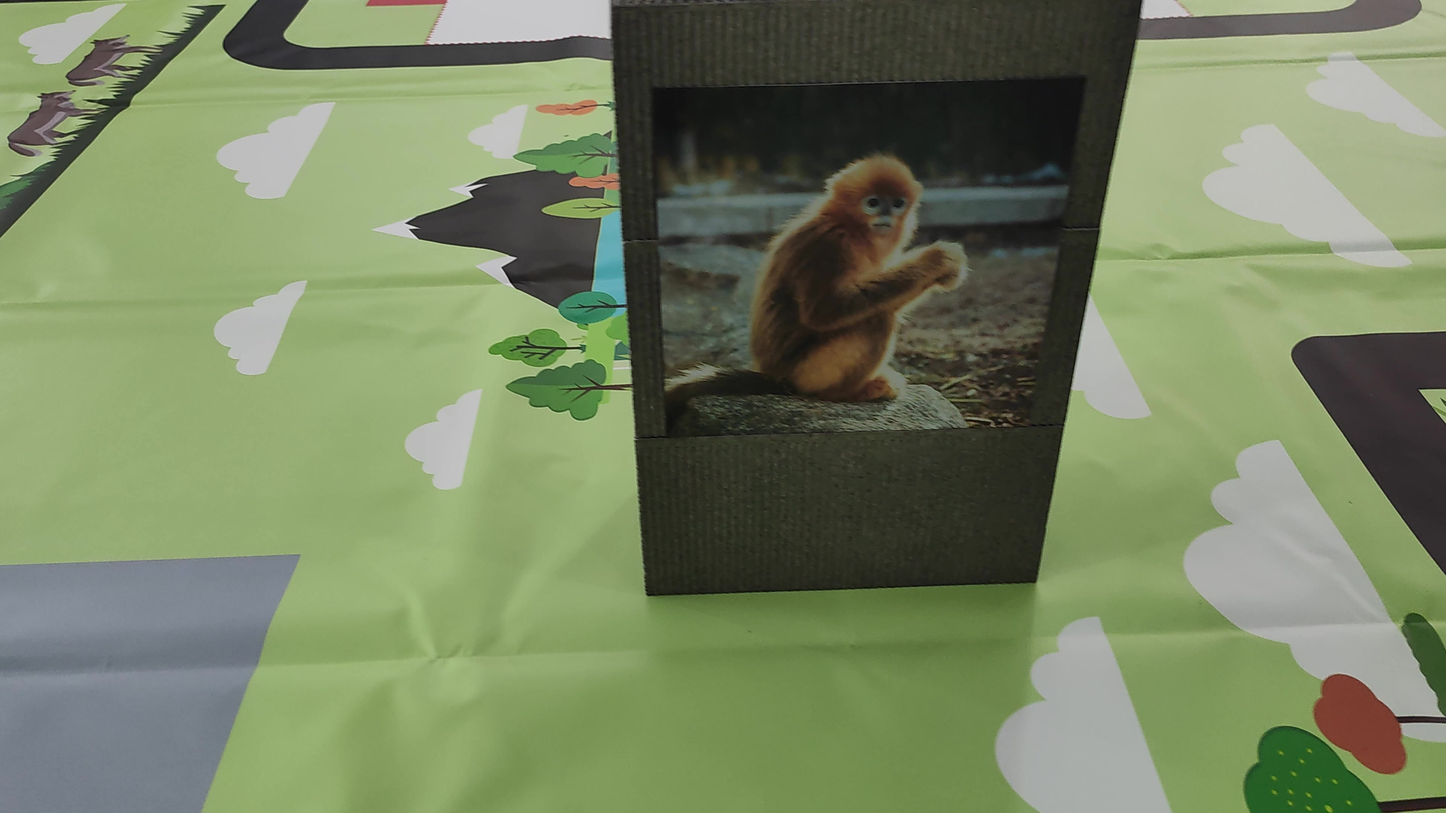monkey: (671, 91, 1036, 435)
